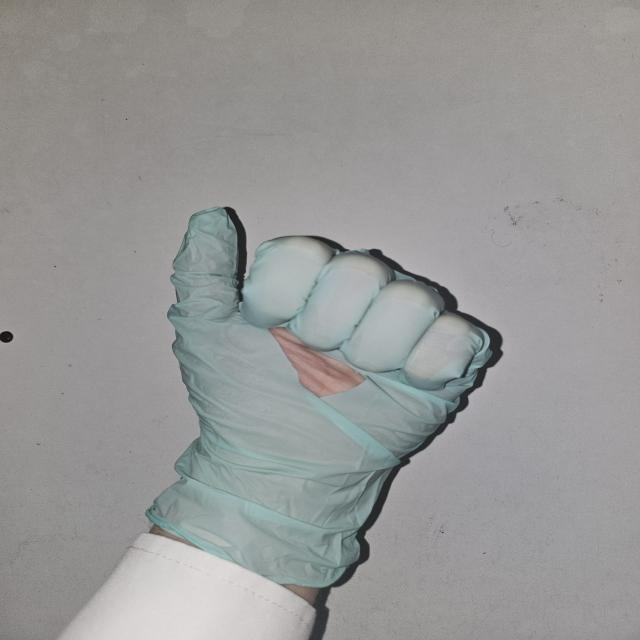gloves_damaged: (144, 204, 492, 590)
